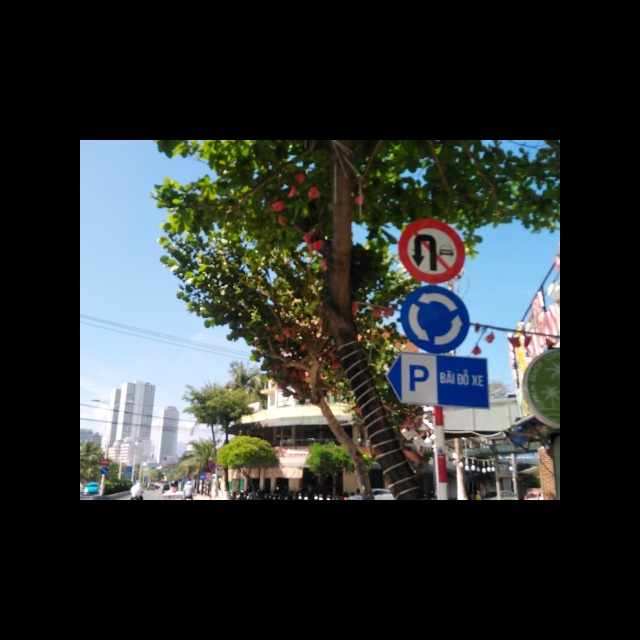Cấm xe ô tô quay đầu: (397, 219, 467, 282)
Nơi giao nhau chạy theo vòng xuyến: (398, 285, 472, 355)
Nơi đỗ xe: (388, 352, 491, 409)
